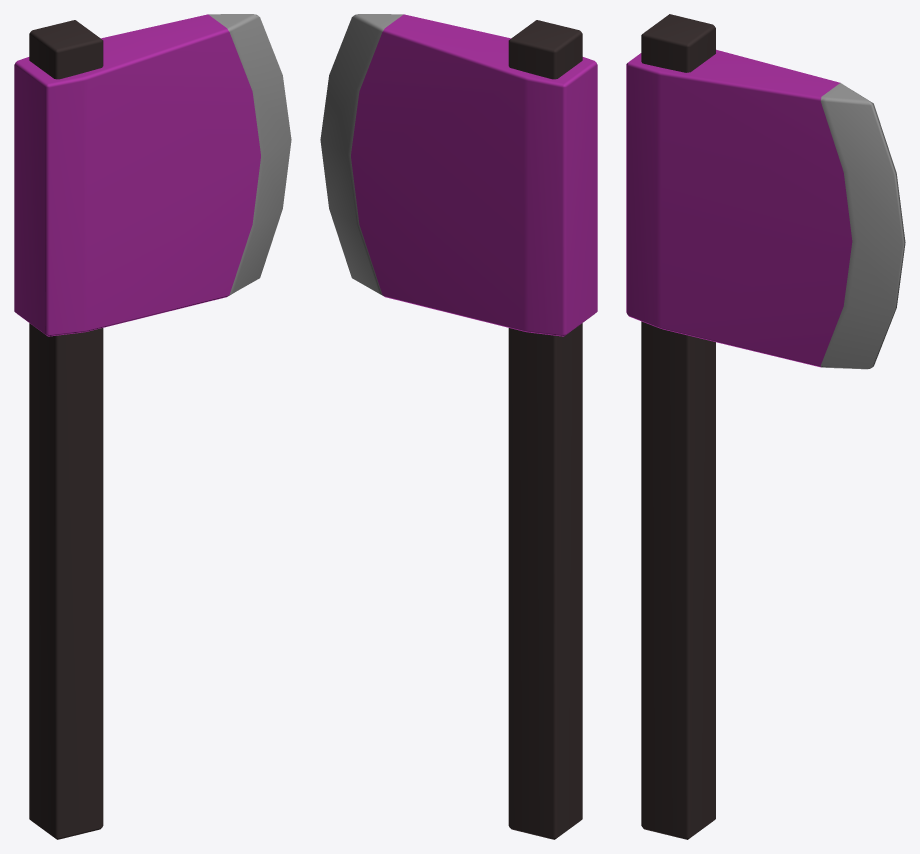
The model's file is axe_6.FBX.
3 renders of one model, left to right at view 1: azimuth 30°, elevation 25°; view 2: azimuth 150°, elevation 25°; view 3: azimuth 330°, elevation 25°, orthographic.
Parts seen in each view (by area): view 1: axe_6; view 2: axe_6; view 3: axe_6.
Boxes of the visible parts, x1,y1,x2,y2 form: axe_6: [14, 14, 291, 839]; axe_6: [320, 14, 597, 839]; axe_6: [626, 14, 905, 839].
Bounding box in the file's own units: 0.8736 × 2.54 × 0.2271.
